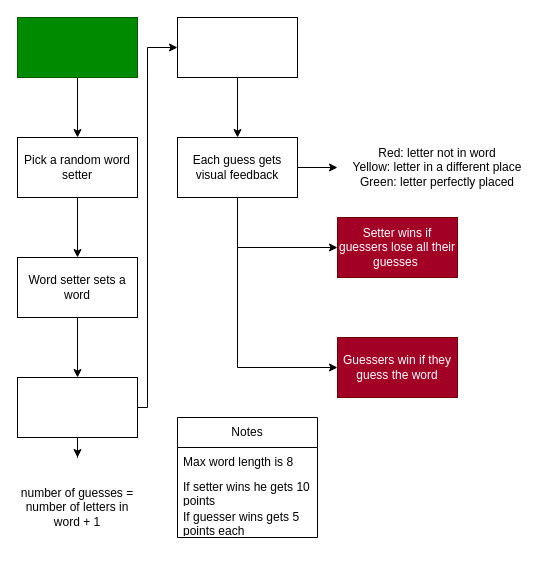
The diagram is 555 pixels wide and 575 high, and some of its shapes have lost their labels. Each missing label, with the centre of its shape:
"50% of users hit ready" belongs at point 77,47.
"Guessers guess" belongs at point 237,47.
"Number of guesses is calculated by:" belongs at point 77,407.
